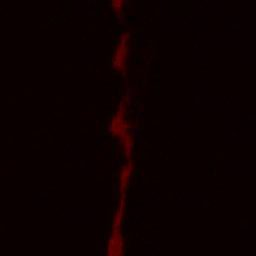debris: (113, 32, 130, 75), (105, 214, 122, 255), (116, 88, 135, 119), (117, 166, 130, 195), (109, 116, 130, 132), (116, 195, 127, 224), (122, 143, 136, 164), (115, 132, 132, 141), (113, 1, 120, 21)
